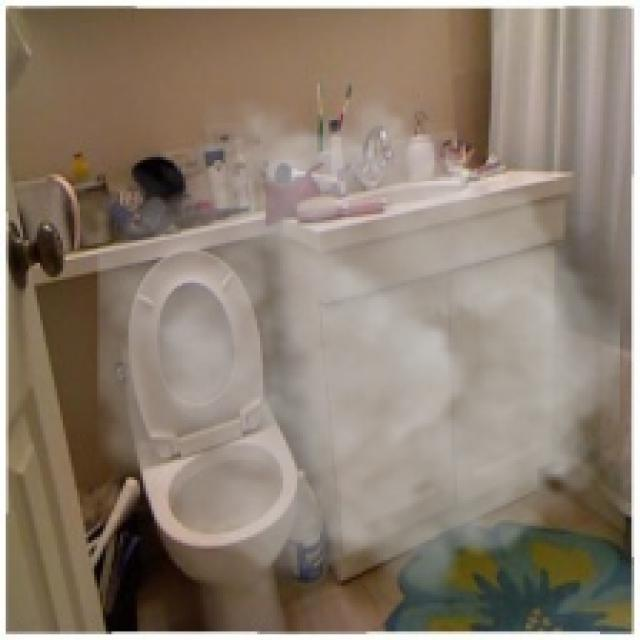smoke: (97, 80, 620, 614)
